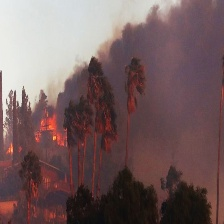fire: (31, 114, 66, 147), (1, 142, 20, 158)
smoke: (71, 1, 220, 188)
